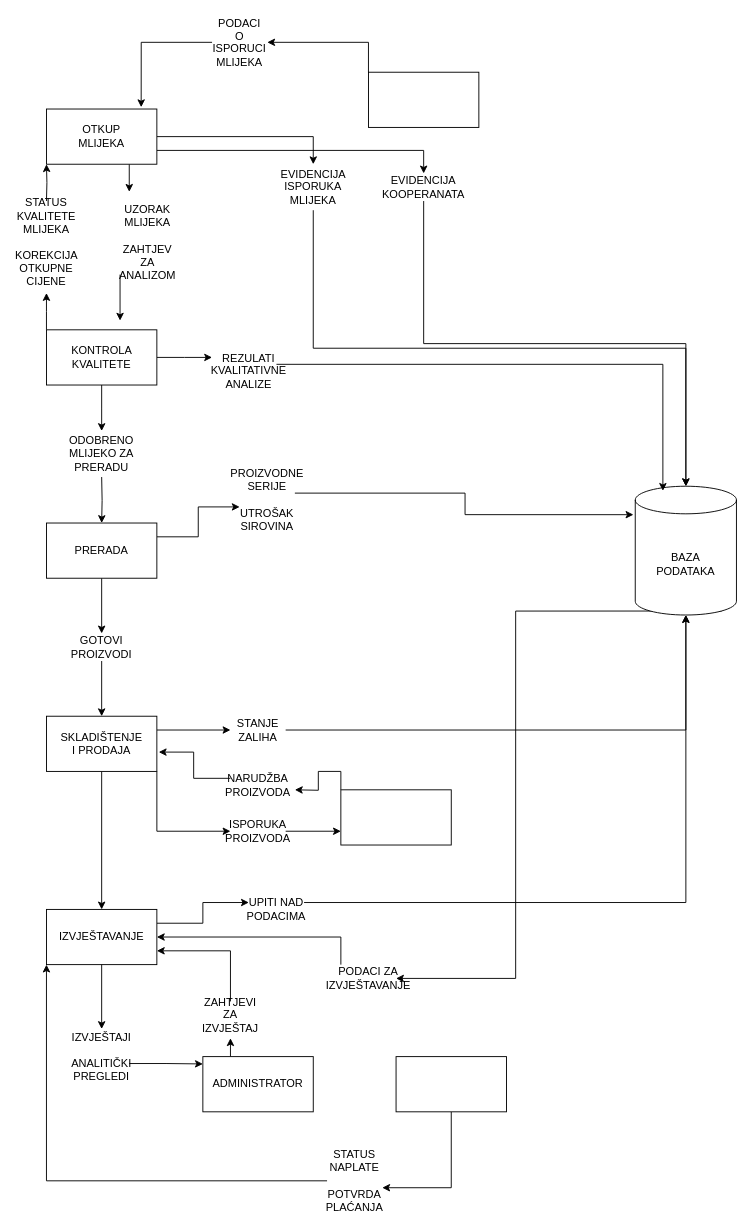
Image size: 753x1229. Some labels were removed from this diagram. Here are the shapes that lost their labels. From the top down, the centre of each, then its label:
(423,99): KOOPERANT
(395,817): KUPAC
(450,1084): RAČUNOVODSTVO
